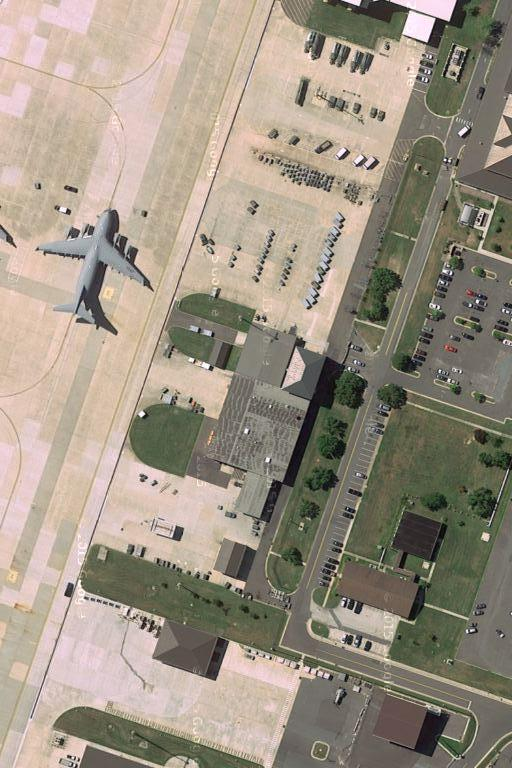C-17: (38, 202, 150, 330)
